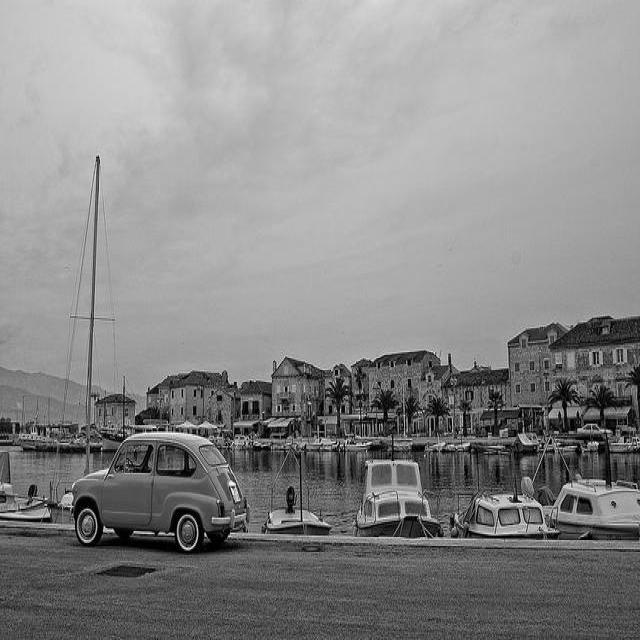vehicle: (73, 437, 249, 553), (576, 424, 613, 440)
